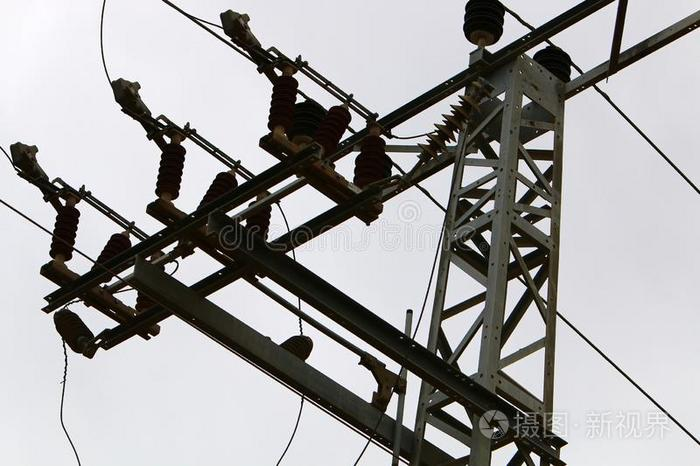insulator: (415, 93, 486, 157), (152, 142, 187, 196), (49, 204, 80, 263), (267, 75, 298, 124)
